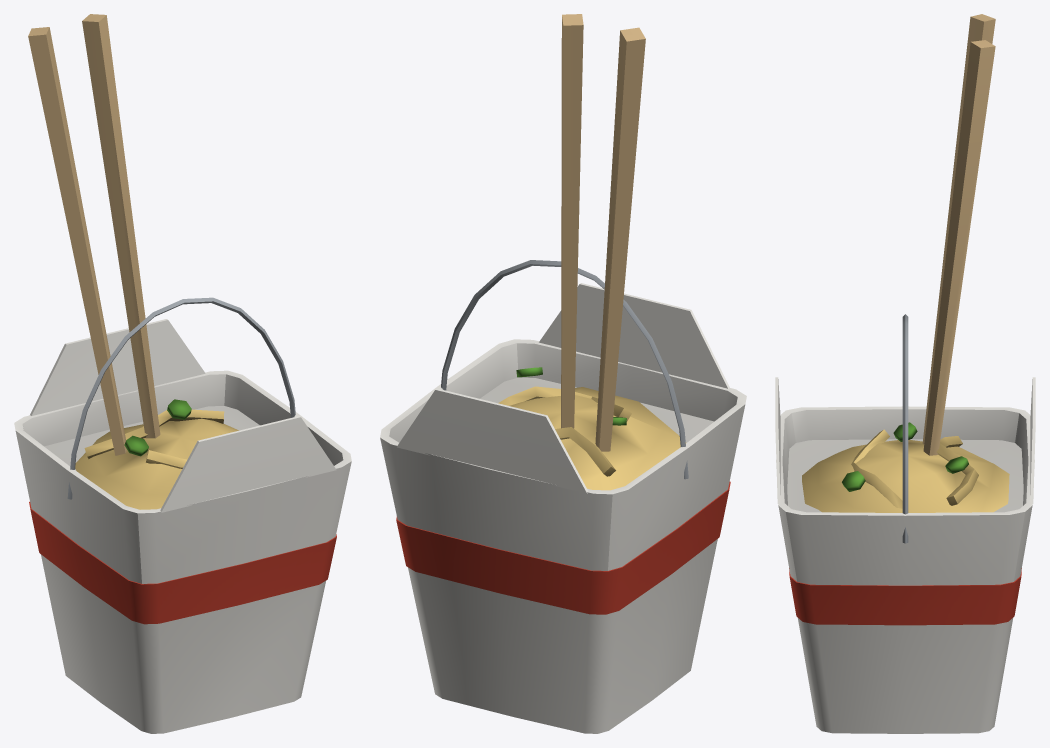
File: noodles.glb
3 renders of one model, left to right at view 1: azimuth 30°, elevation 25°; view 2: azimuth 150°, elevation 25°; view 3: azimuth 270°, elevation 25°, orthographic. The views are drawn at different scales.
Visible parts, largest first — view 1: noodles; view 2: noodles; view 3: noodles.
Boxes of the visible parts, x1=… form: noodles: x1=14, y1=14, x2=351, y2=733; noodles: x1=380, y1=14, x2=746, y2=733; noodles: x1=775, y1=14, x2=1035, y2=733.
Size of the model in its own units: 0.1 by 0.2686 by 0.1006.
